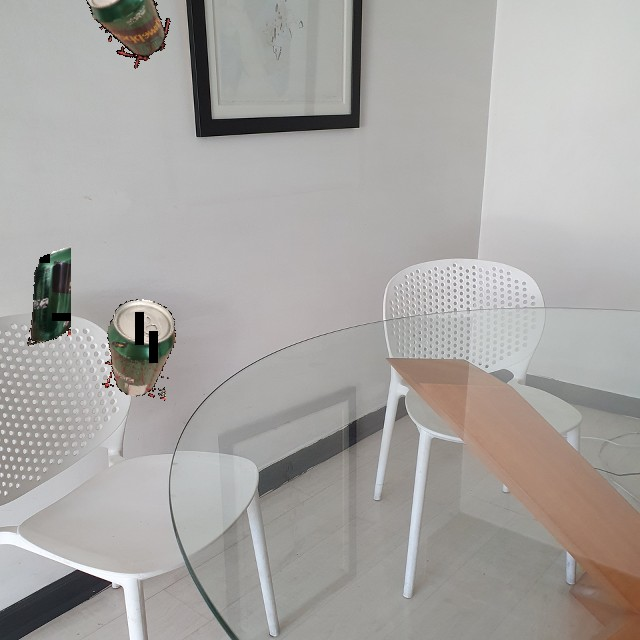schweppes: (98, 295, 181, 401), (73, 0, 186, 73), (27, 244, 71, 346)
